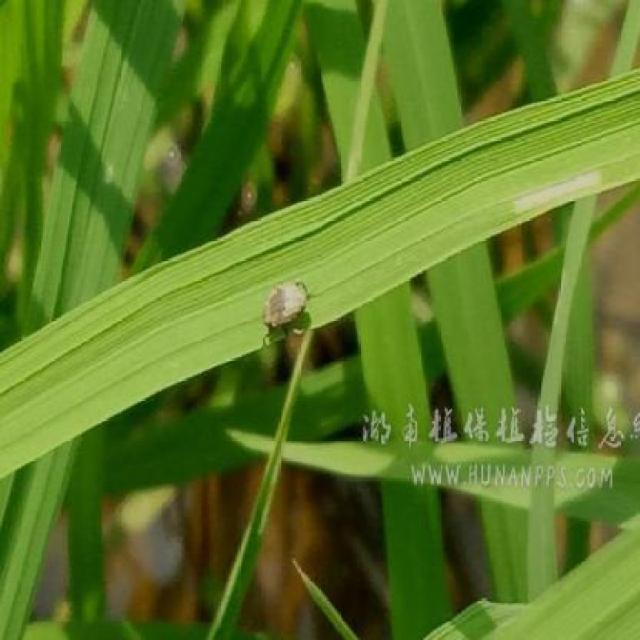rice-bug: (265, 274, 312, 340)
